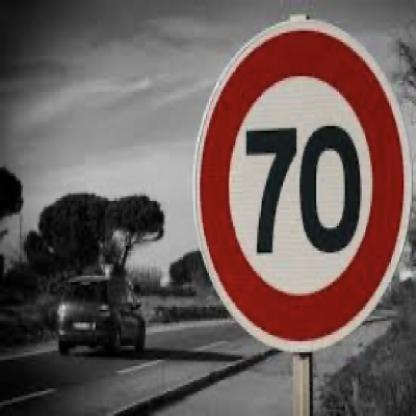Speed Limit 70: (196, 24, 408, 349)
